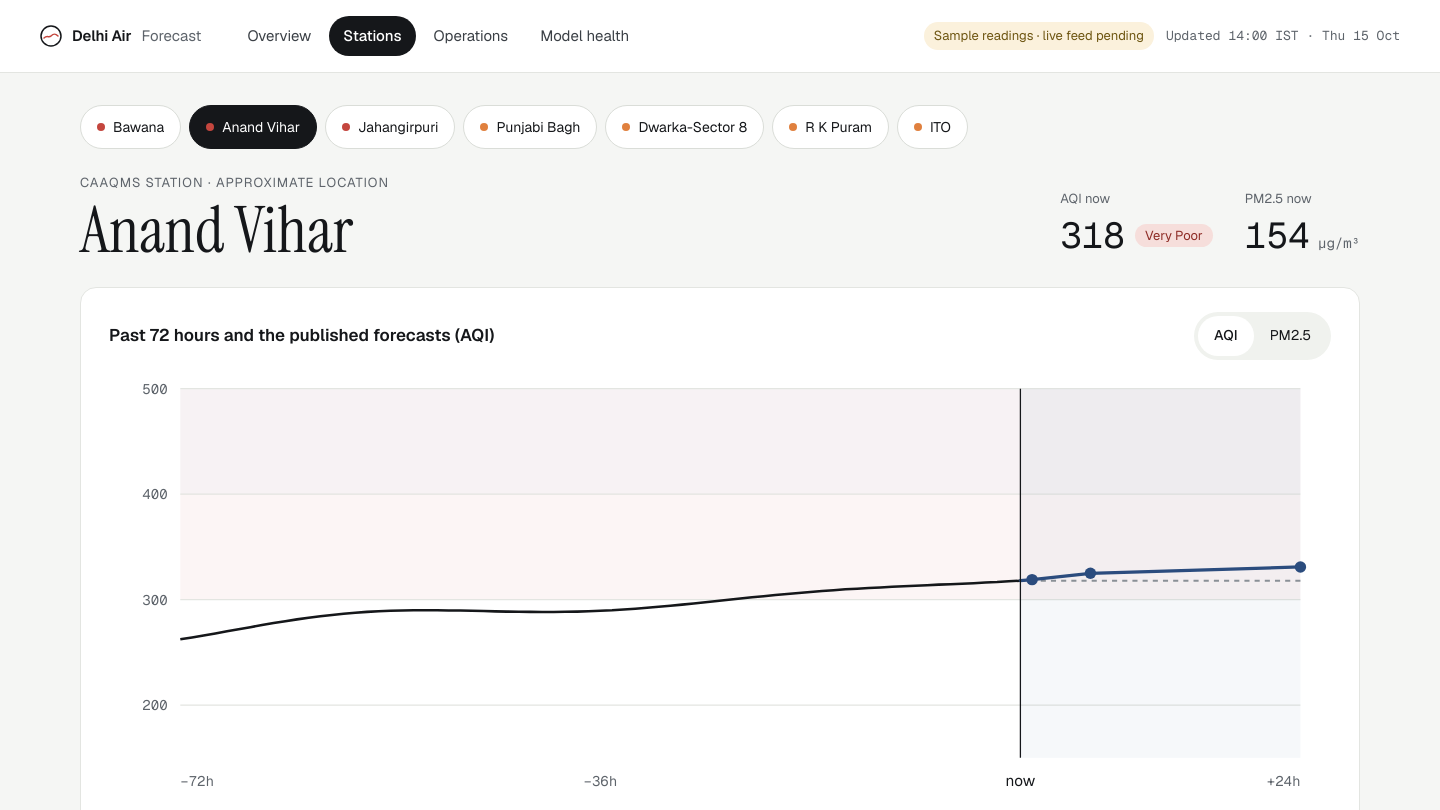
Test: Stations › marks the chosen station and switches by link
Click the link "R K Puram" at (831, 127), box [772, 105, 889, 149]
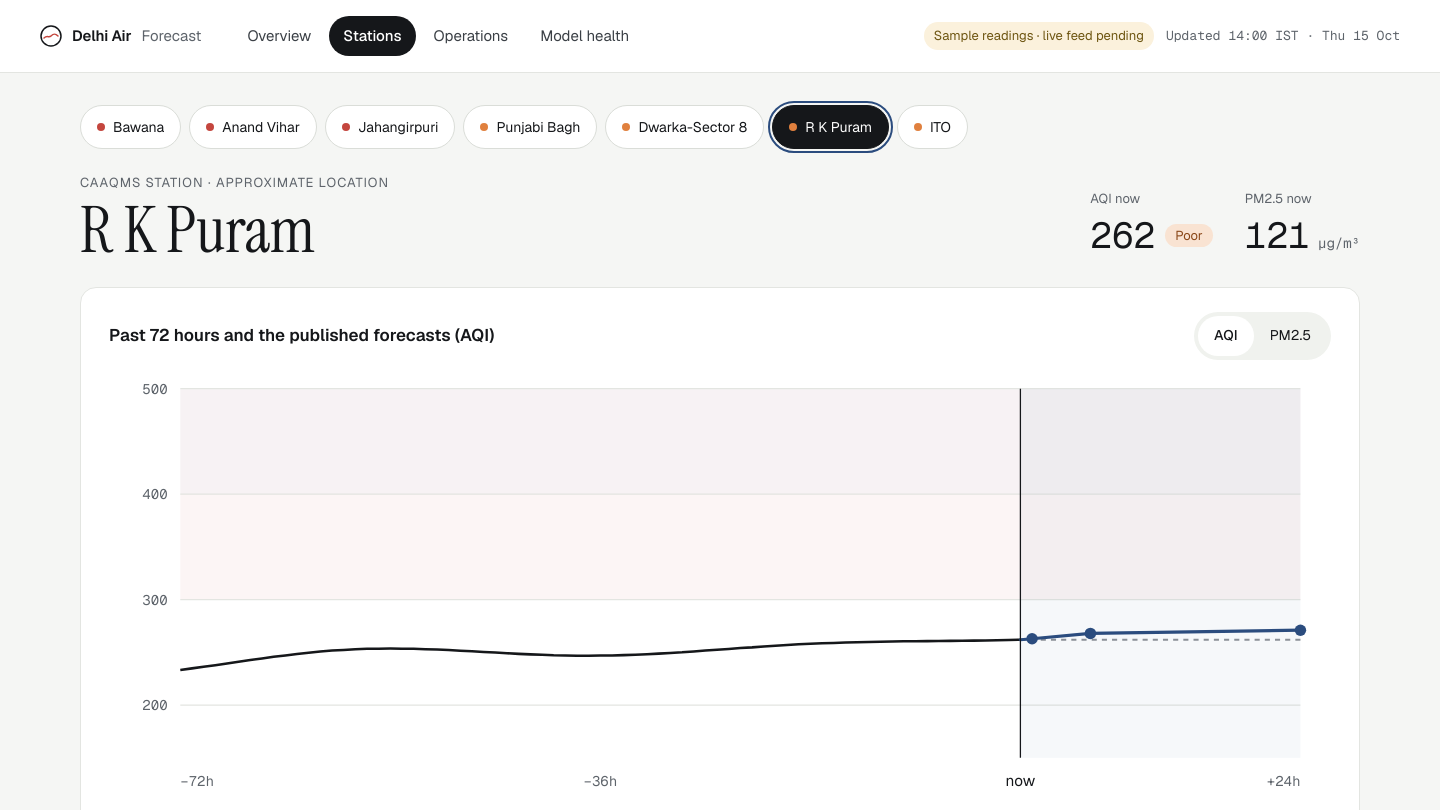
Expected: the heading "R K Puram" is shown, [80, 188, 315, 272]
